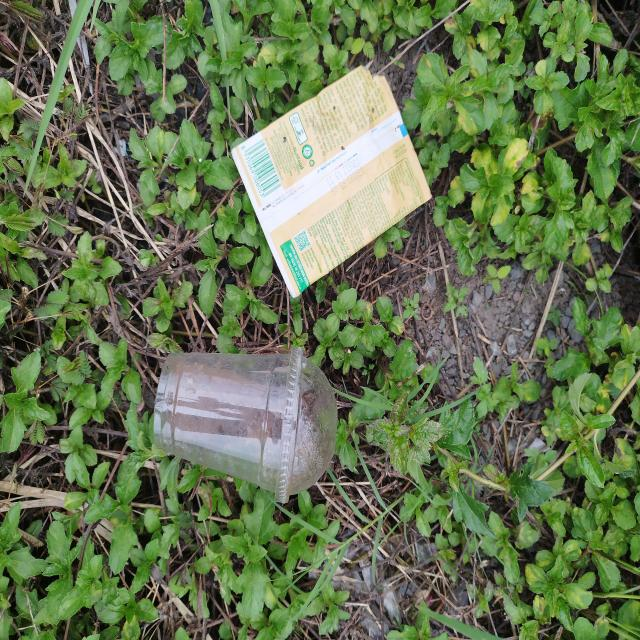packet: (232, 64, 432, 302)
plastic glass: (154, 343, 338, 502)
